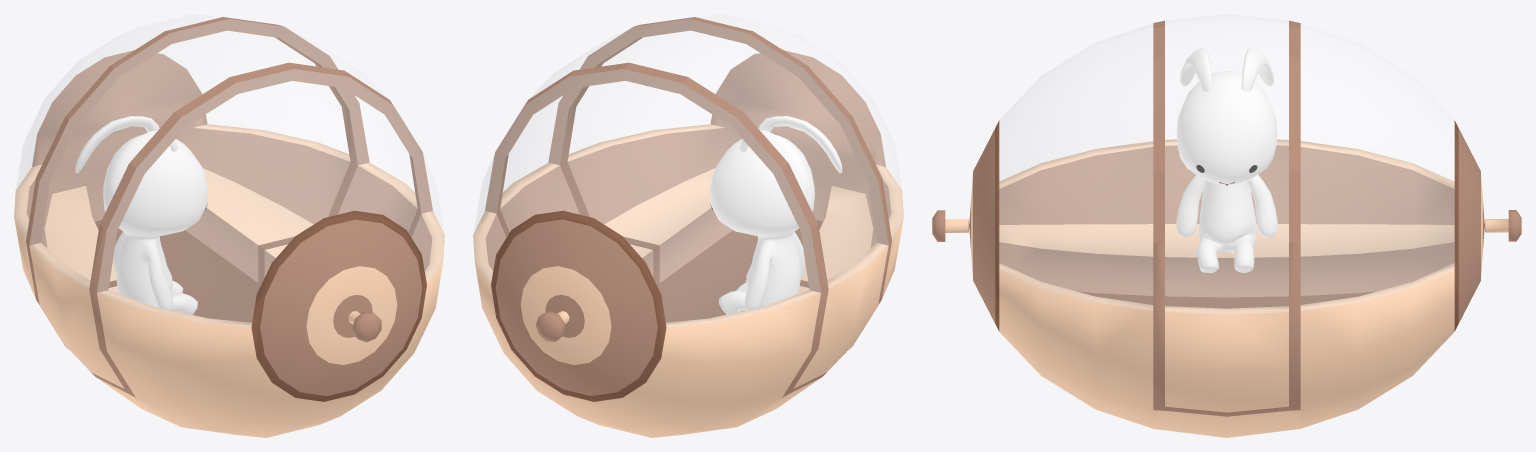
File: Ferris_wheel_ball.glb
3 renders of one model, left to right at view 1: azimuth 30°, elevation 25°; view 2: azimuth 150°, elevation 25°; view 3: azimuth 270°, elevation 25°, orthographic. The views are drawn at different scales.
Parts seen in each view (by area): view 1: Ferris_wheel_ball, Ferris_wheel_ball_glass, qmimi_body; view 2: Ferris_wheel_ball, Ferris_wheel_ball_glass, qmimi_body; view 3: Ferris_wheel_ball, Ferris_wheel_ball_glass, qmimi_body.
Boxes of the visible parts, x1,y1,x2,y2 form: Ferris_wheel_ball: (14,17,444,437); Ferris_wheel_ball_glass: (14,14,444,327); qmimi_body: (75,116,207,314); Ferris_wheel_ball: (473,17,903,437); Ferris_wheel_ball_glass: (473,14,903,327); qmimi_body: (710,116,842,314); Ferris_wheel_ball: (932,20,1521,437); Ferris_wheel_ball_glass: (999,14,1454,314); qmimi_body: (1176,47,1277,273).
Bounding box in the file's own units: 8 × 8 × 11.21.
2 materials, 2 textured.
